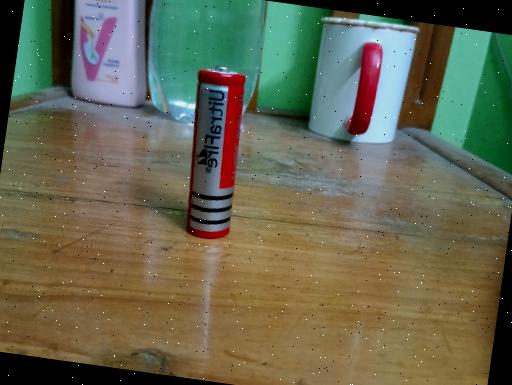Battery: (174, 62, 253, 242)
